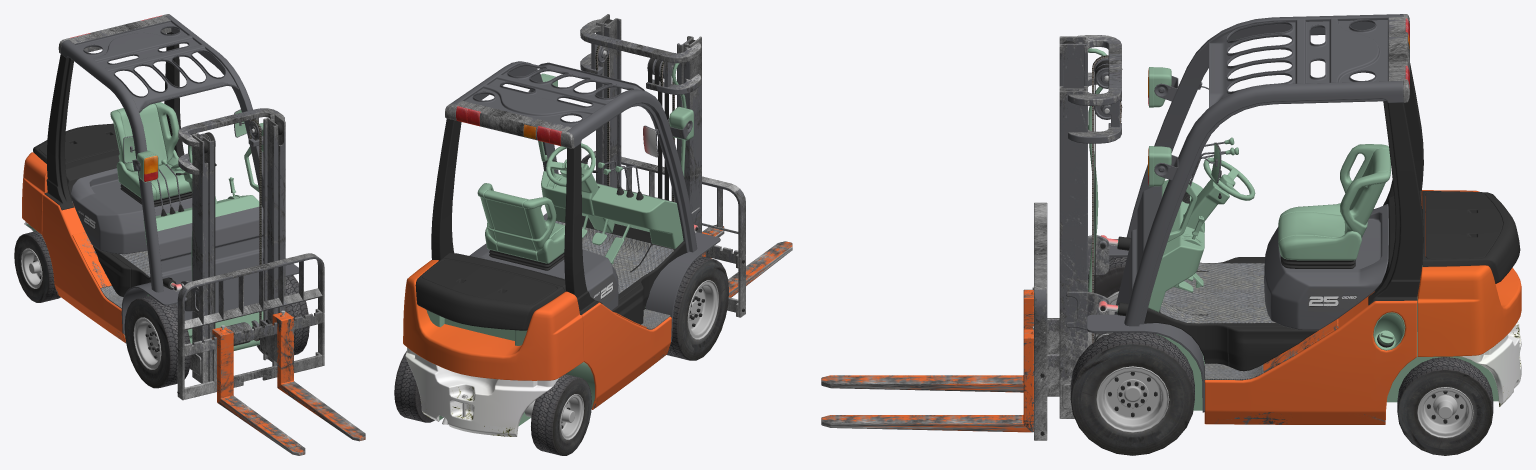
File: chache.FBX
3 views of the same model, side by side, from view 1: azimuth 30°, elevation 25°; view 2: azimuth 150°, elevation 25°; view 3: azimuth 270°, elevation 25° (orthographic). The views are drawn at different scales.
Parts seen in each view (by area): view 1: chache; view 2: chache; view 3: chache.
Boxes of the visible parts, x1=… form: chache: x1=14, y1=14, x2=365, y2=455; chache: x1=394, y1=14, x2=792, y2=455; chache: x1=821, y1=14, x2=1521, y2=455.
Size of the model in its own units: 187 by 330 by 579.
14 materials, 14 textured.
